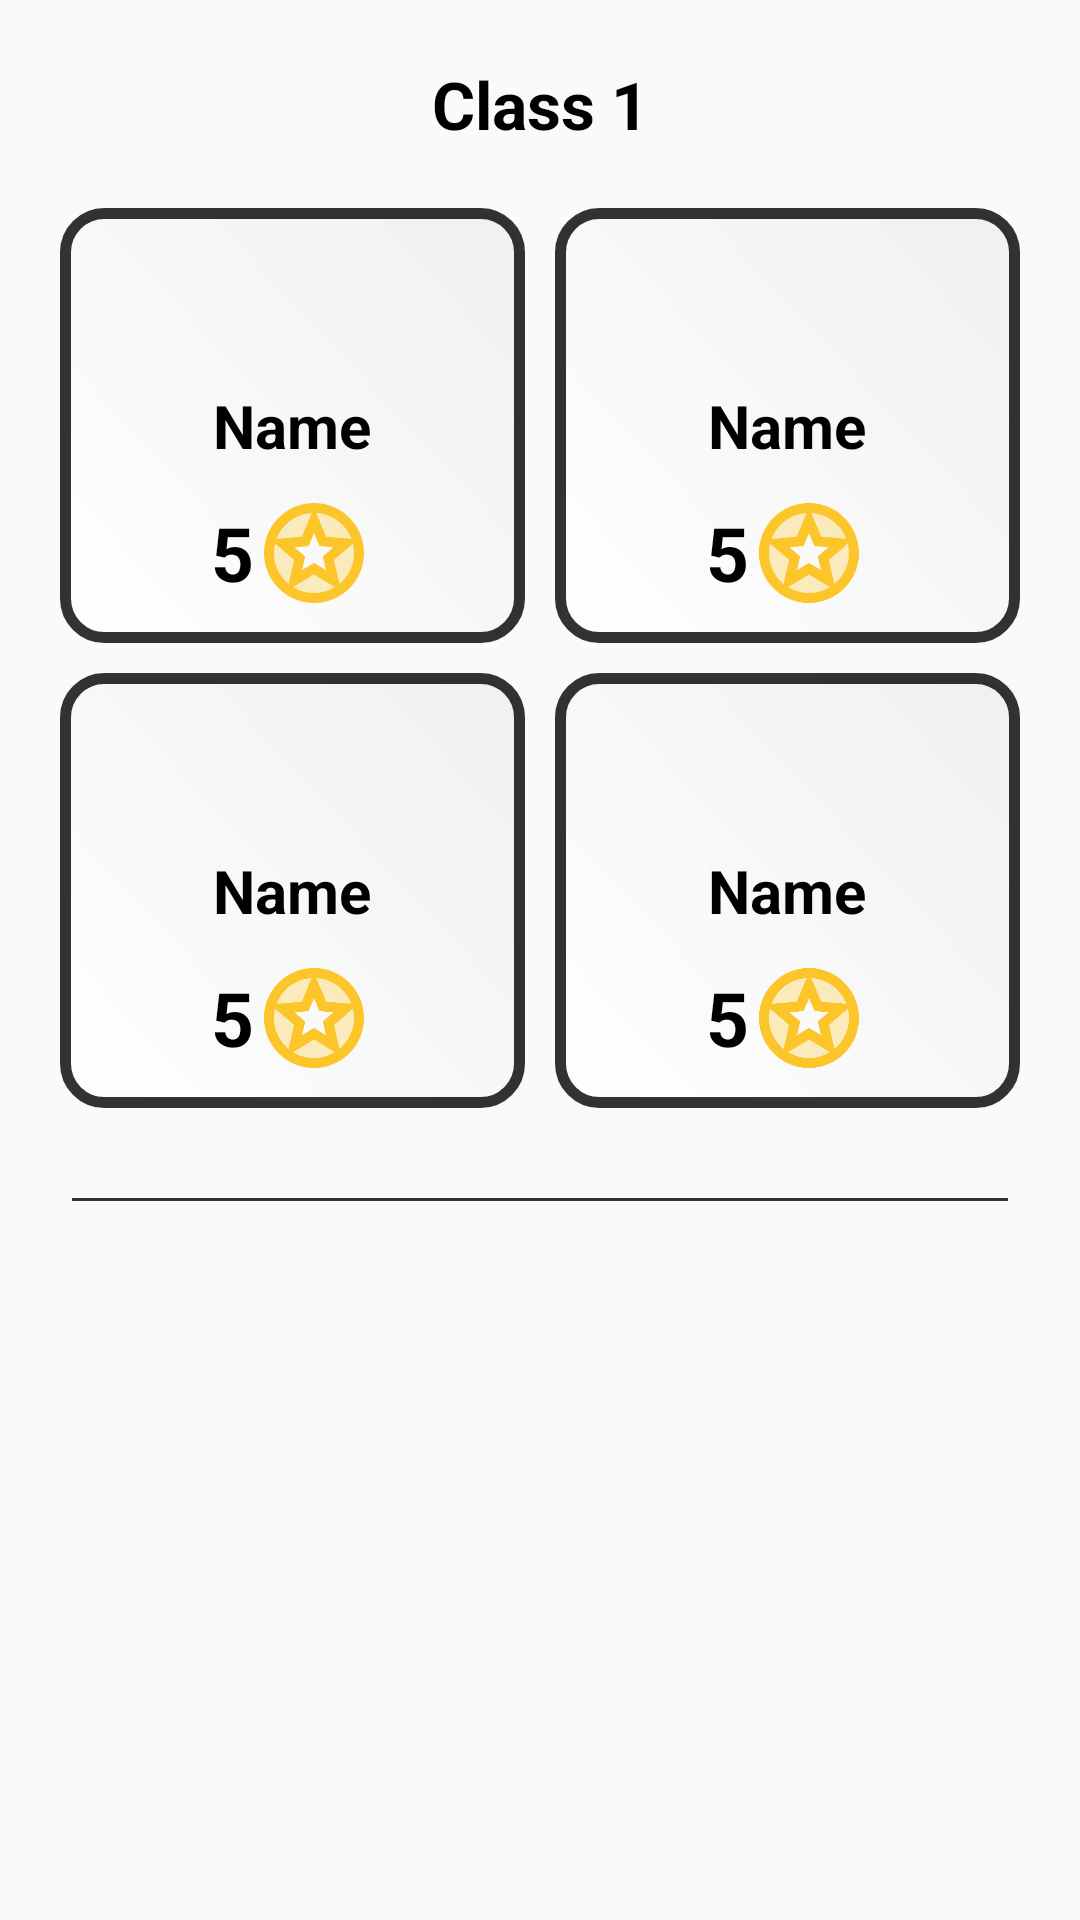

Icon click points for this 1080w x 1920h phone screenshot, format (x,y):
stars: (314,553), (808,553), (314,1018), (809,1018)
